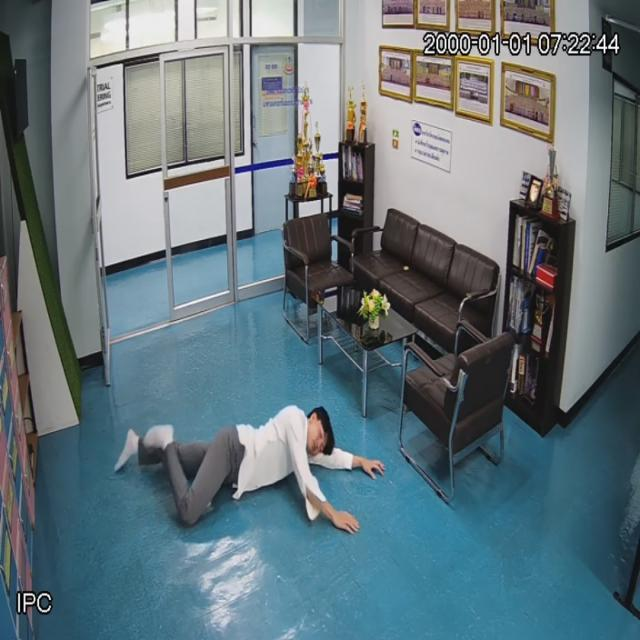fall: (118, 395, 388, 542)
